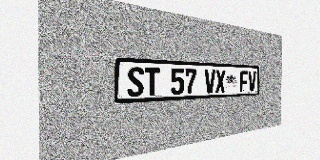5: (171, 68, 184, 95)
7: (184, 69, 196, 94)
F: (240, 71, 248, 92)
S: (127, 67, 144, 97)
T: (144, 67, 160, 96)
V: (204, 69, 215, 93), (248, 71, 256, 91)
X: (215, 70, 225, 93)
